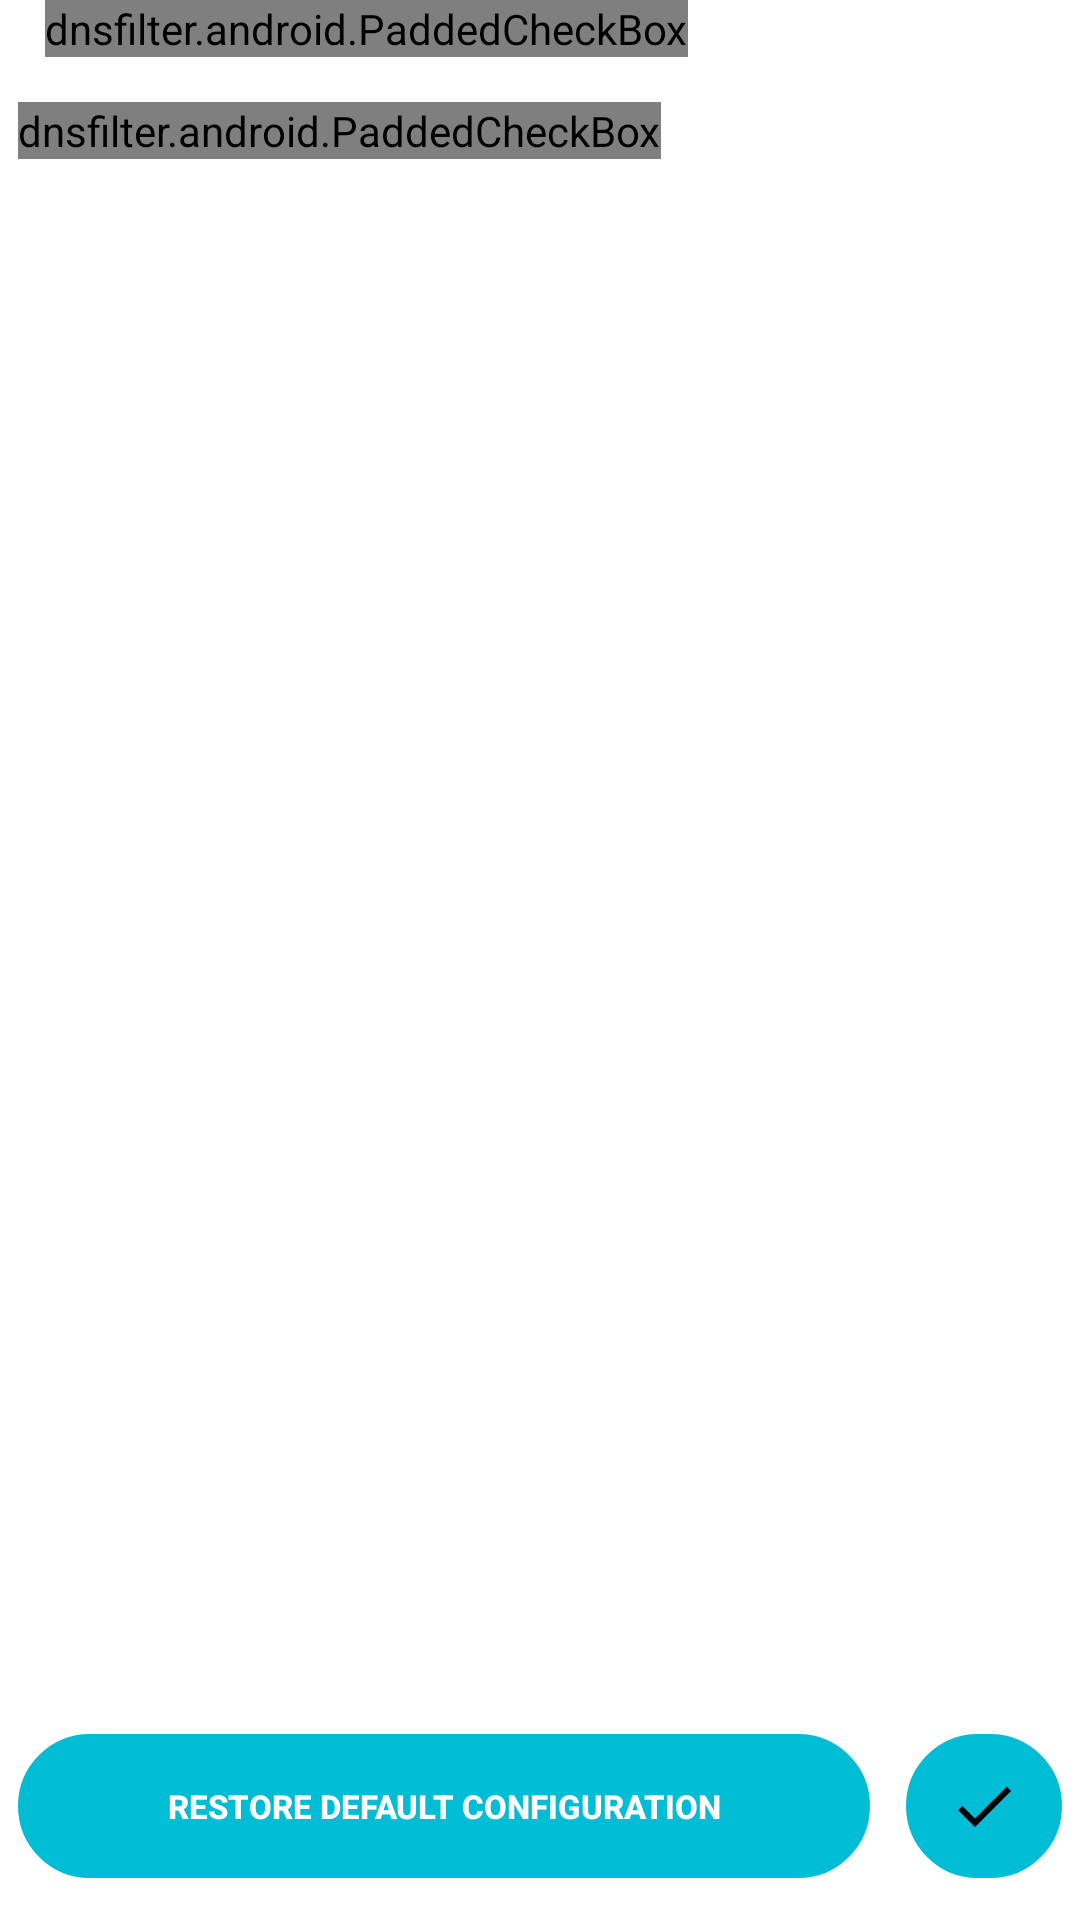

Icon bounding boxes for this 1080 × 1920 phone screenshot, format box=[x1, y1, x2, y2]:
done: box=[906, 1734, 1062, 1878]
